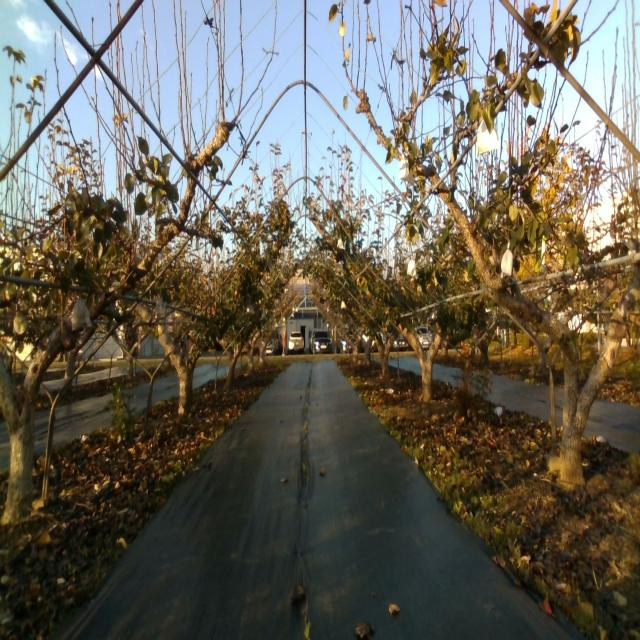pearbags: (476, 117, 499, 155), (72, 297, 91, 329), (500, 243, 514, 278), (398, 155, 409, 180), (155, 297, 166, 317), (406, 259, 416, 277)
